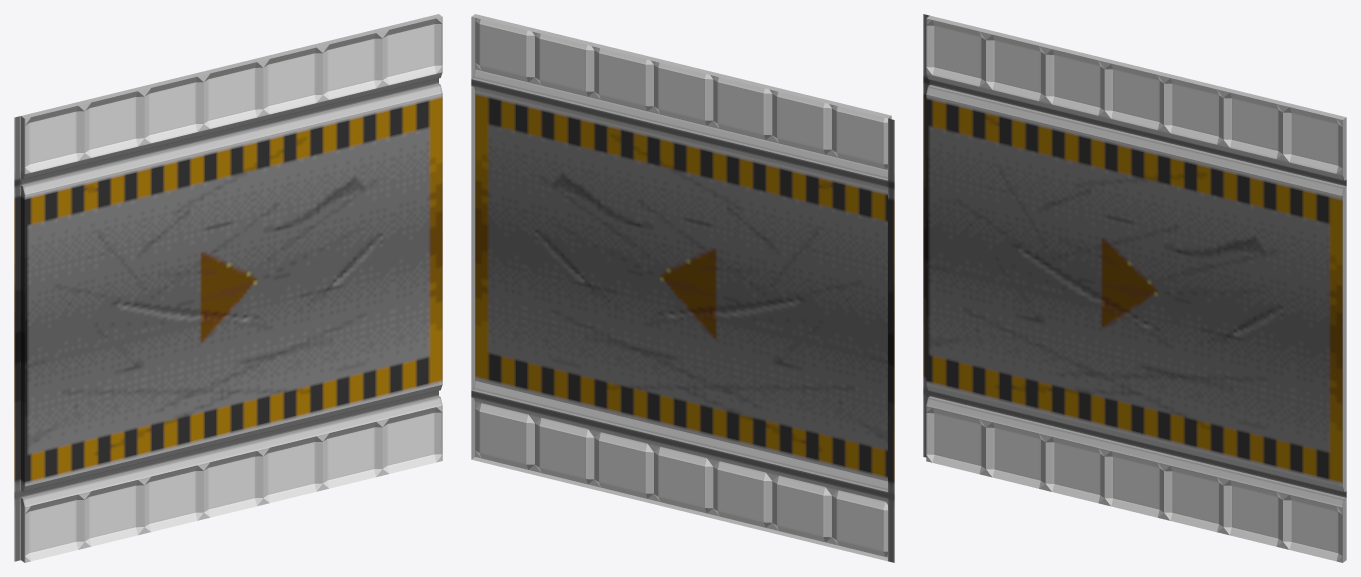
Rendered from flight1_1.fbx.
3 views of the same model, side by side, from view 1: azimuth 30°, elevation 25°; view 2: azimuth 150°, elevation 25°; view 3: azimuth 330°, elevation 25° (orthographic).
Visible parts, largest first — view 1: flight1_1_mesh; view 2: flight1_1_mesh; view 3: flight1_1_mesh.
Boxes of the visible parts, box(x1,y1,x2,y2) form: flight1_1_mesh: box(14, 14, 442, 562); flight1_1_mesh: box(471, 14, 894, 562); flight1_1_mesh: box(923, 14, 1346, 562).
Size of the model in its own units: 256 by 256 by 4.
